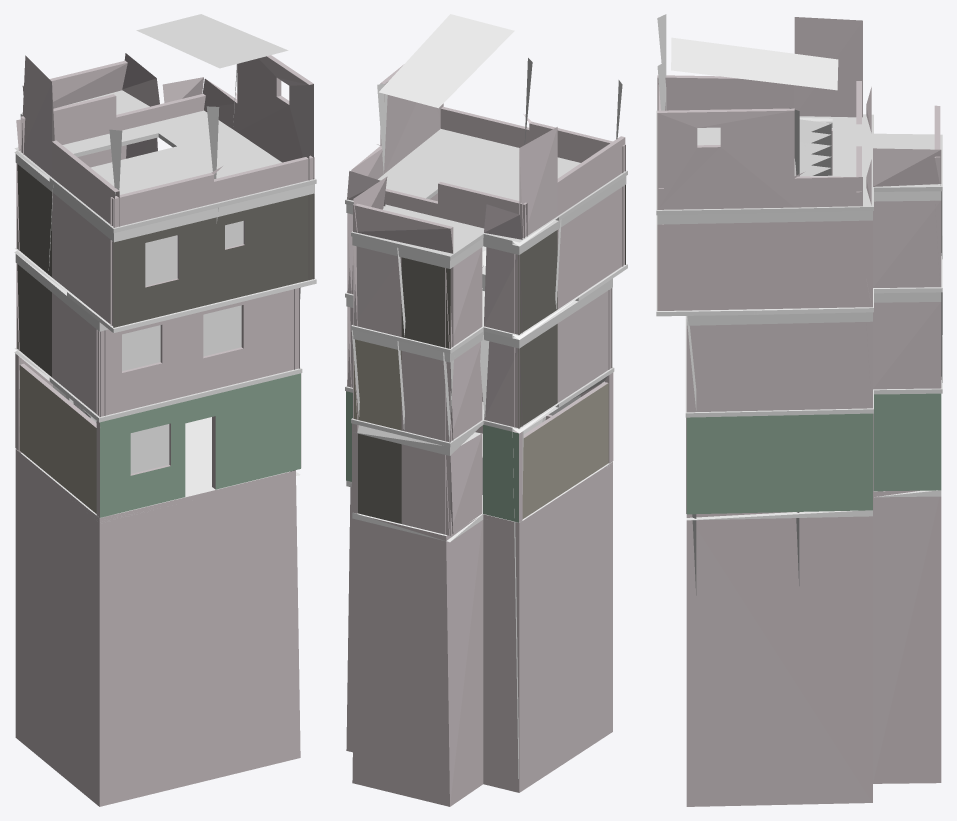
The picture shows the model from 3 angles, left to right: view 1: azimuth 30°, elevation 25°; view 2: azimuth 150°, elevation 25°; view 3: azimuth 270°, elevation 25°; orthographic projection. The views are drawn at different scales.
Visible parts, largest first — view 1: F_5; view 2: F_5; view 3: F_5.
Boxes of the visible parts, x1,y1,x2,y2 form: F_5: [14, 14, 316, 806]; F_5: [345, 14, 627, 806]; F_5: [656, 14, 942, 806].
Size of the model in its own units: 6.06 by 20.47 by 7.31.
